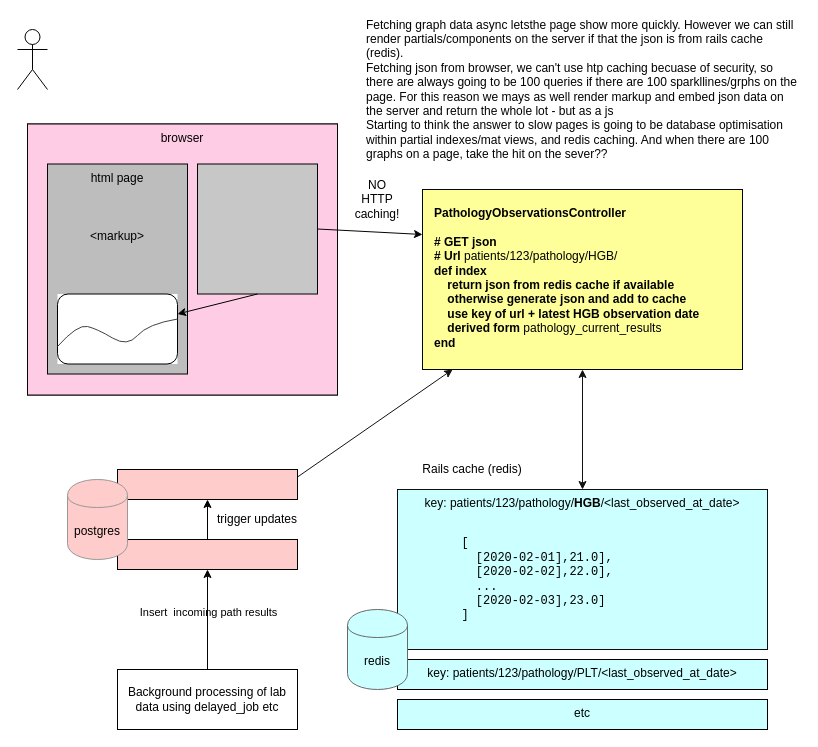
Some shapes in this 818 by 747 pixel diagram are drawn without their labels. Here are the shapes that lost their labels. From the top down, the centre of each, then its label:
(x=32, y=59): Actor
(x=257, y=228): stimulusjs charts controller - watch markup - fetch json and create graph
(x=117, y=328): HGB graph
(x=207, y=484): pathology_current_results
(x=207, y=554): pathology_observations
